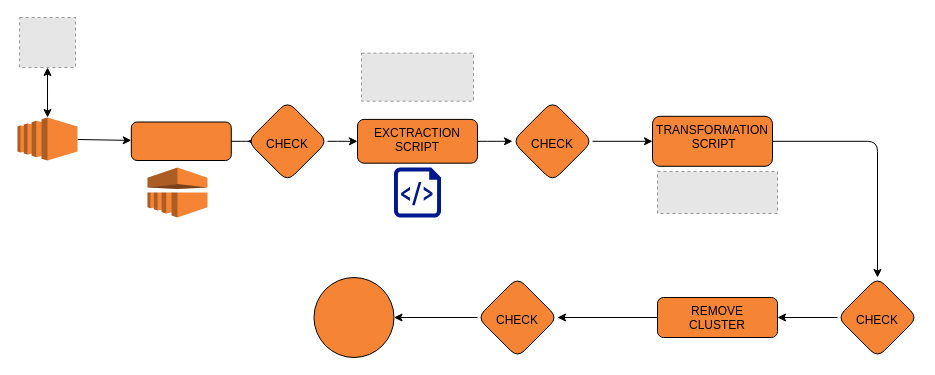
This 935x375 diagram has some shape labels left out. Grey dashed boxes stand in for pictures. The centre of each missing label's shape, as x and y in pixels:
"CREATE EMR CLUSTER" belongs at pixel 180 140.
"END PIPELINE" belongs at pixel 353 317.
